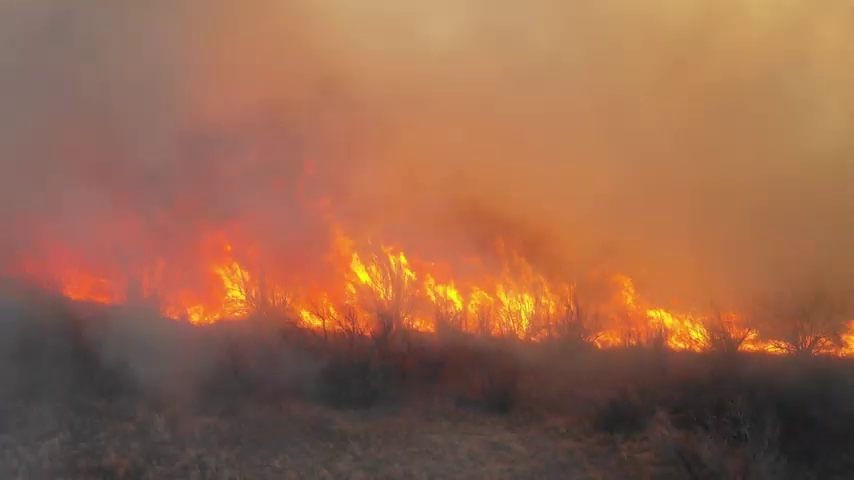forest_fire: (24, 225, 583, 339), (590, 274, 853, 355)
